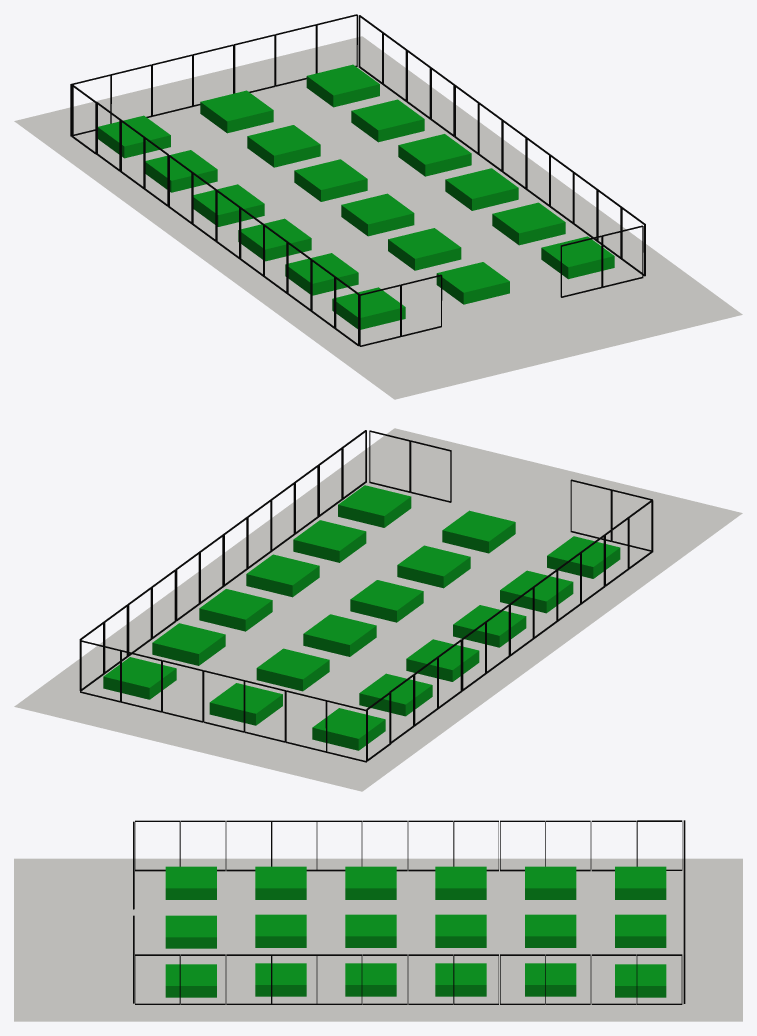
Rendered from GreenHouseV5.glb.
3 views of the same model, one above another, from view 1: azimuth 30°, elevation 25°; view 2: azimuth 150°, elevation 25°; view 3: azimuth 270°, elevation 25° (orthographic). The views are drawn at different scales.
Parts seen in each view (by area): view 1: Plane, Cube, Cube001, Cube022, Cube024, Cube025, Cube027, Cube028, Cube030, Cube031, Cube023, Cube026 (+9 smaller); view 2: Plane, Cube, Cube001, Cube027, Cube021, Cube022, Cube024, Cube025, Cube030, Cube023, Cube006, Cube028 (+9 smaller); view 3: Plane, Cube, Cube001, Cube016, Cube017, Cube018, Cube022, Cube023, Cube024, Cube006, Cube028, Cube029 (+9 smaller).
Part boxes in pixels (x1,y1,x2,y2): Plane: (14, 36, 742, 399); Cube: (358, 15, 645, 276); Cube001: (95, 102, 359, 346); Cube022: (388, 228, 461, 270); Cube024: (294, 159, 367, 201); Cube025: (247, 125, 320, 167); Cube027: (492, 202, 565, 245); Cube028: (445, 168, 518, 210); Cube030: (351, 99, 424, 142); Cube031: (306, 64, 379, 107); Cube023: (341, 193, 414, 236); Cube026: (200, 90, 273, 133); Plane: (14, 428, 742, 791); Cube: (79, 430, 366, 691); Cube001: (389, 500, 653, 743); Cube027: (293, 520, 366, 562); Cube021: (442, 510, 515, 553); Cube022: (397, 545, 470, 588); Cube024: (303, 614, 376, 656); Cube025: (256, 648, 329, 691); Cube030: (152, 623, 225, 665); Cube023: (350, 580, 423, 622); Cube006: (338, 485, 411, 527); Cube028: (246, 554, 319, 597); Plane: (14, 858, 742, 1021); Cube: (135, 954, 682, 1004); Cube001: (135, 820, 637, 871); Cube016: (255, 866, 306, 899); Cube017: (345, 866, 396, 899); Cube018: (435, 866, 486, 899); Cube022: (255, 914, 306, 947); Cube023: (345, 914, 396, 947); Cube024: (435, 914, 486, 947); Cube006: (165, 964, 216, 997); Cube028: (345, 963, 396, 996); Cube029: (435, 963, 486, 996).
Bounding box in the file's own units: 15 × 2.17 × 28.38.
